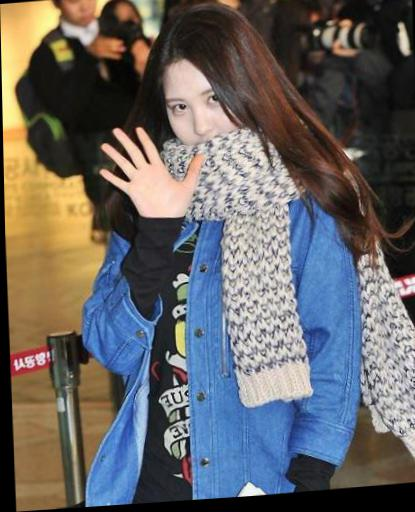WRONG: (154, 74, 244, 168)
